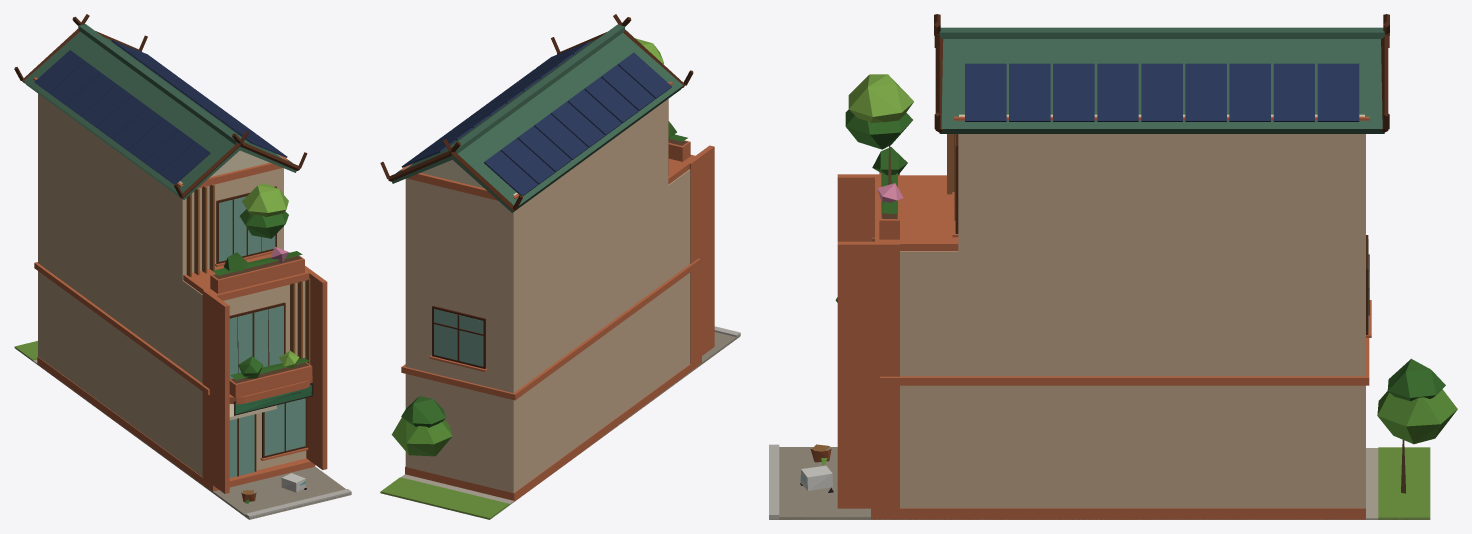
Rendered from bay1_mid2.glb.
The picture shows the model from 3 angles, left to right: view 1: azimuth 30°, elevation 25°; view 2: azimuth 150°, elevation 25°; view 3: azimuth 270°, elevation 25°; orthographic projection. The views are drawn at different scales.
Parts seen in each view (by area): view 1: body; view 2: body; view 3: body.
Boxes of the visible parts, <box> form: body: <box>14,14,351,519</box>; body: <box>380,14,740,519</box>; body: <box>769,14,1457,519</box>.
Bounding box in the file's own units: 5.23 × 12.77 × 16.56.
